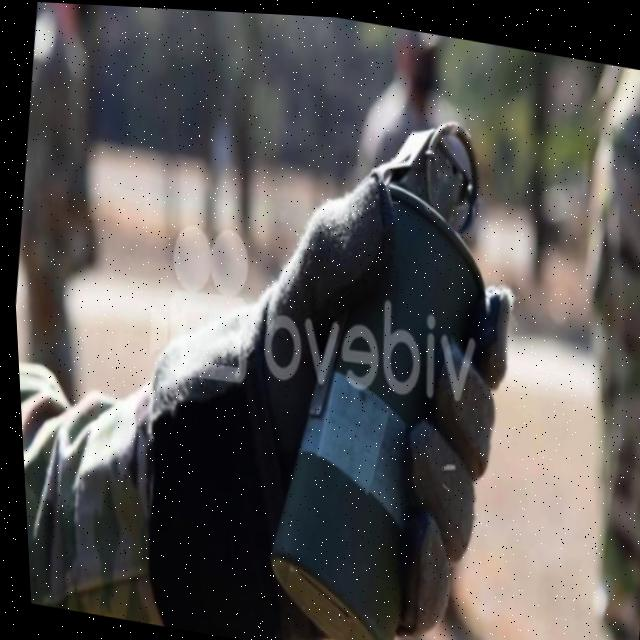grenade: (215, 83, 546, 640)
